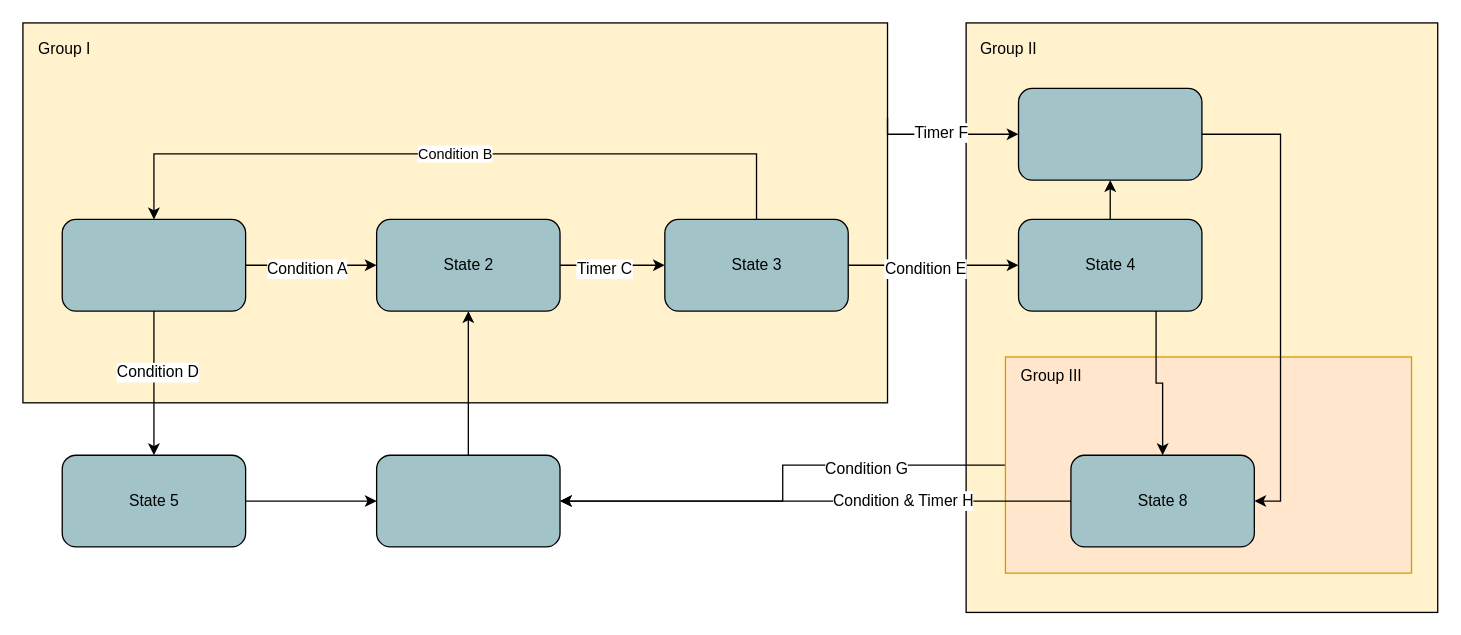
This 1461x635 diagram has some shape labels left out. The centre of each missing label's shape, as x and y in pixels:
"State 1" belongs at [153,264].
"State 6" belongs at [467,500].
"State 7" belongs at [1109,133].
